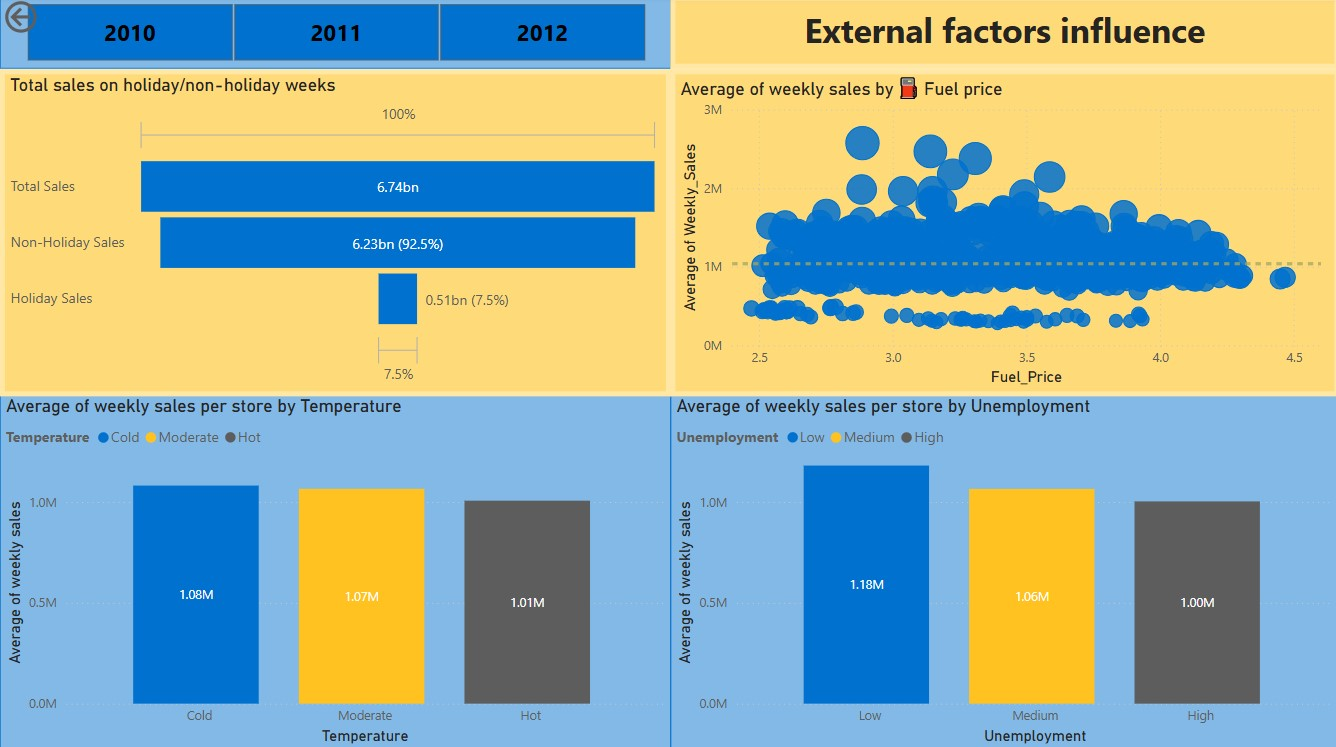

The page's visual inventory and layout, read from the dashboard file:
{"tool":"powerbi","page":{"name":"External factors","canvas":[1280,720],"ordinal":1},"visuals":[{"type":"columnChart","title":"Average of weekly sales per store by Temperature ","fields":{"Category":["Walmart_Sales.Temp_Range"],"Series":["Walmart_Sales.Temp_Range"],"Y":["Avg(Walmart_Sales.Weekly_Sales)"]},"box":[0,381.6,640.5,339.2],"z":0},{"type":"slicer","fields":{"Values":["Walmart_Sales.Date.Variation.Date Hierarchy.Year"]},"box":[0,0,640.5,69.7],"z":1000},{"type":"textbox","box":[640.5,0,639,69.7],"z":2000},{"type":"columnChart","title":"Average of weekly sales per store by Unemployment","fields":{"Y":["Avg(Walmart_Sales.Weekly_Sales)"],"Category":["Walmart_Sales.Unemployment_Level"],"Series":["Walmart_Sales.Unemployment_Level"]},"box":[640.5,381.6,639,339.2],"z":3000},{"type":"scatterChart","title":"Average of weekly sales by ⛽ Fuel price","fields":{"Y":["Avg(Walmart_Sales.Weekly_Sales)"],"X":["Walmart_Sales.Fuel_Price"],"Size":["Avg(Walmart_Sales.Weekly_Sales)"]},"box":[640.5,69.7,639,311.9],"z":4000},{"type":"funnel","title":"Total sales on holiday/non-holiday weeks","fields":{"Y":["Sum(Holiday_Sales_Funnel.Sales)"],"Category":["Holiday_Sales_Funnel.Stage"]},"box":[0,69.7,640.5,311.9],"z":5000},{"type":"actionButton","box":[0,0,100,40],"z":6000}]}

Visuals, with their boxes in screenshot pixels (x1, y1, x2, y2), scaled from the page's 1280x720 canvas onto the 1336x747 screenshot:
"Average of weekly sales per store by Temperature " columnChart: {"x1": 0, "y1": 396, "x2": 669, "y2": 746}
slicer - Walmart_Sales.Date.Variation.Date Hierarchy.Year: {"x1": 0, "y1": 0, "x2": 669, "y2": 72}
textbox: {"x1": 669, "y1": 0, "x2": 1335, "y2": 72}
"Average of weekly sales per store by Unemployment" columnChart: {"x1": 669, "y1": 396, "x2": 1335, "y2": 746}
"Average of weekly sales by ⛽ Fuel price" scatterChart: {"x1": 669, "y1": 72, "x2": 1335, "y2": 396}
"Total sales on holiday/non-holiday weeks" funnel: {"x1": 0, "y1": 72, "x2": 669, "y2": 396}
actionButton: {"x1": 0, "y1": 0, "x2": 104, "y2": 42}
